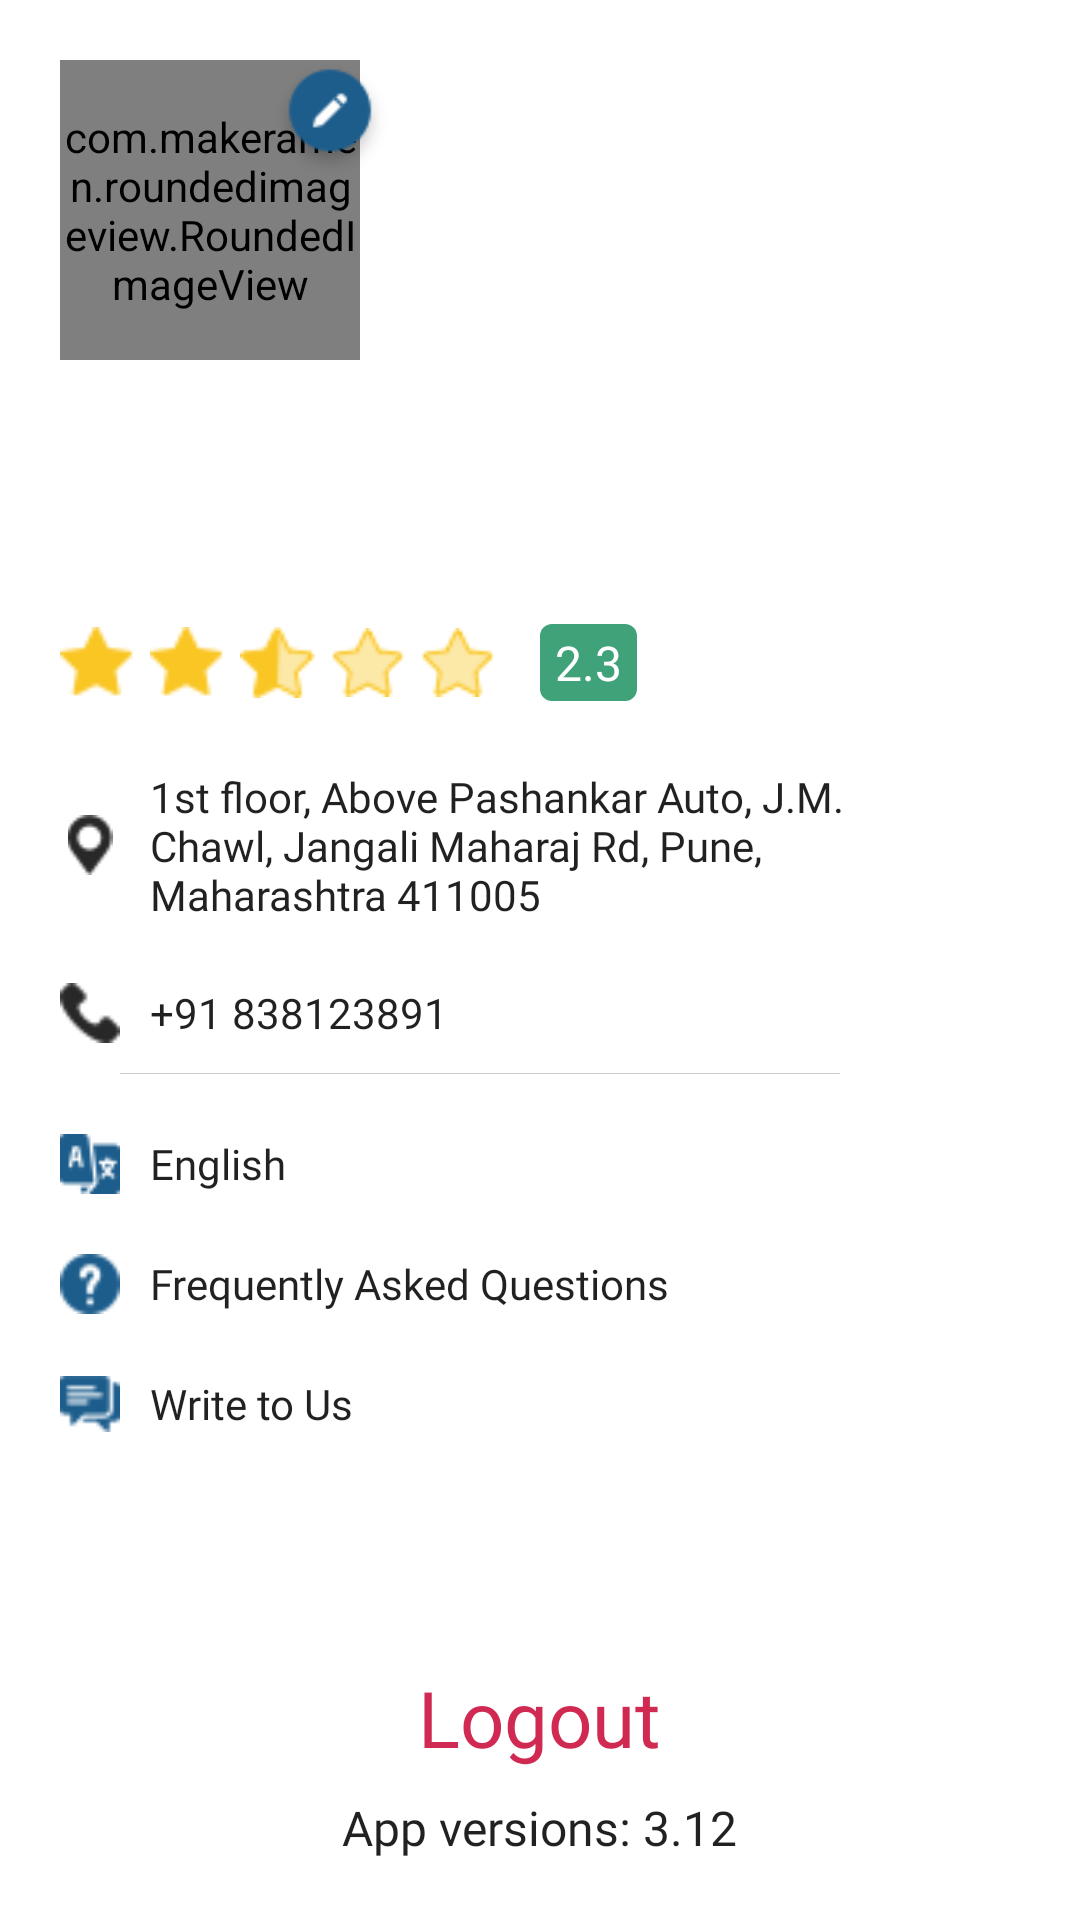

Where to tap for icons on this 1080w x 1920h app screen, as [x,y]:
addressloc: [90,845]
call: [90,1013]
edit: [330,120]
writeus: [90,1404]
